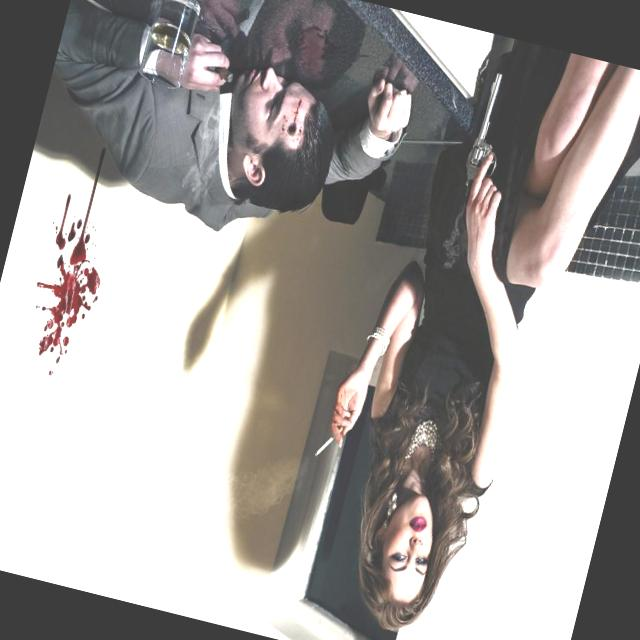cigarette: (300, 404, 352, 474)
